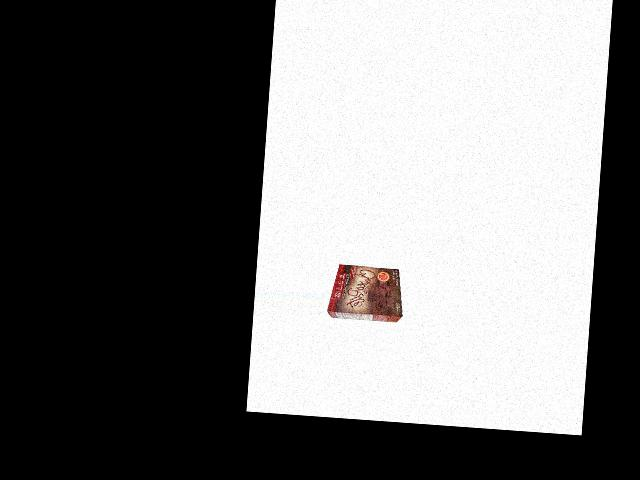chocolate: (328, 262, 406, 322)
